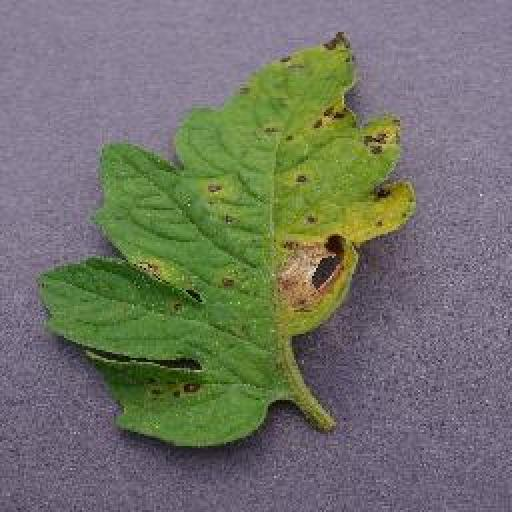disease_tomato: (42, 27, 415, 445)
